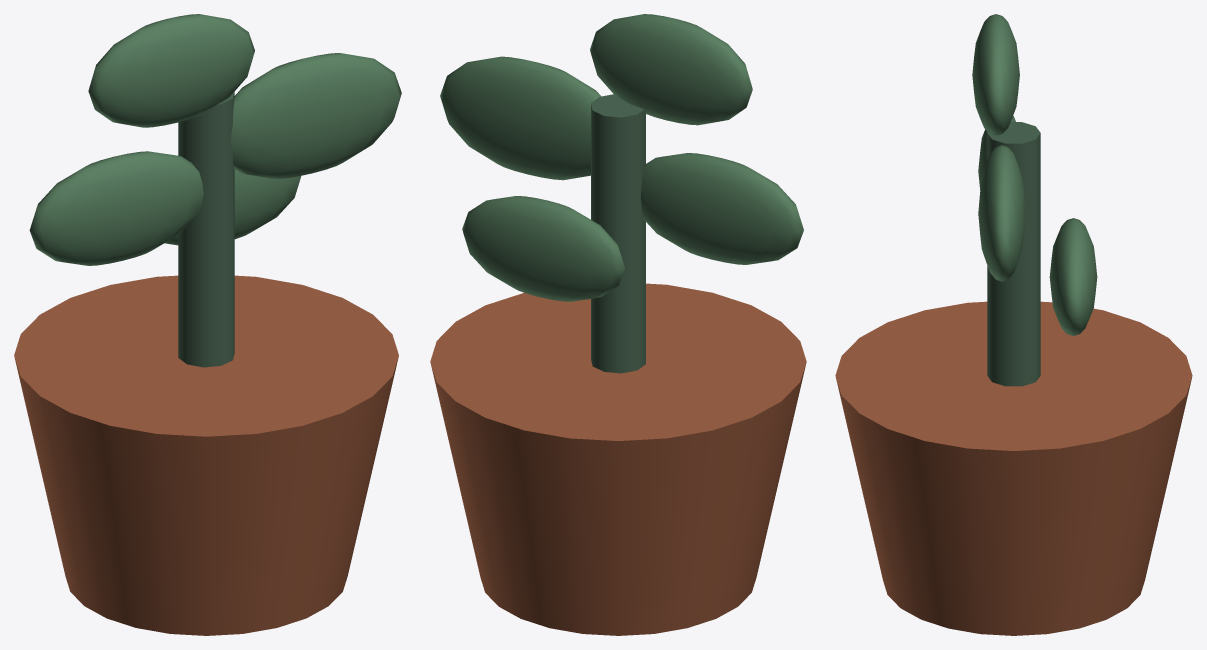
Rendered from plant.glb.
The picture shows the model from 3 angles, left to right: view 1: azimuth 30°, elevation 25°; view 2: azimuth 150°, elevation 25°; view 3: azimuth 270°, elevation 25°; orthographic projection. The views are drawn at different scales.
Bounding box in the file's own units: 0.67 × 0.99 × 0.6.
